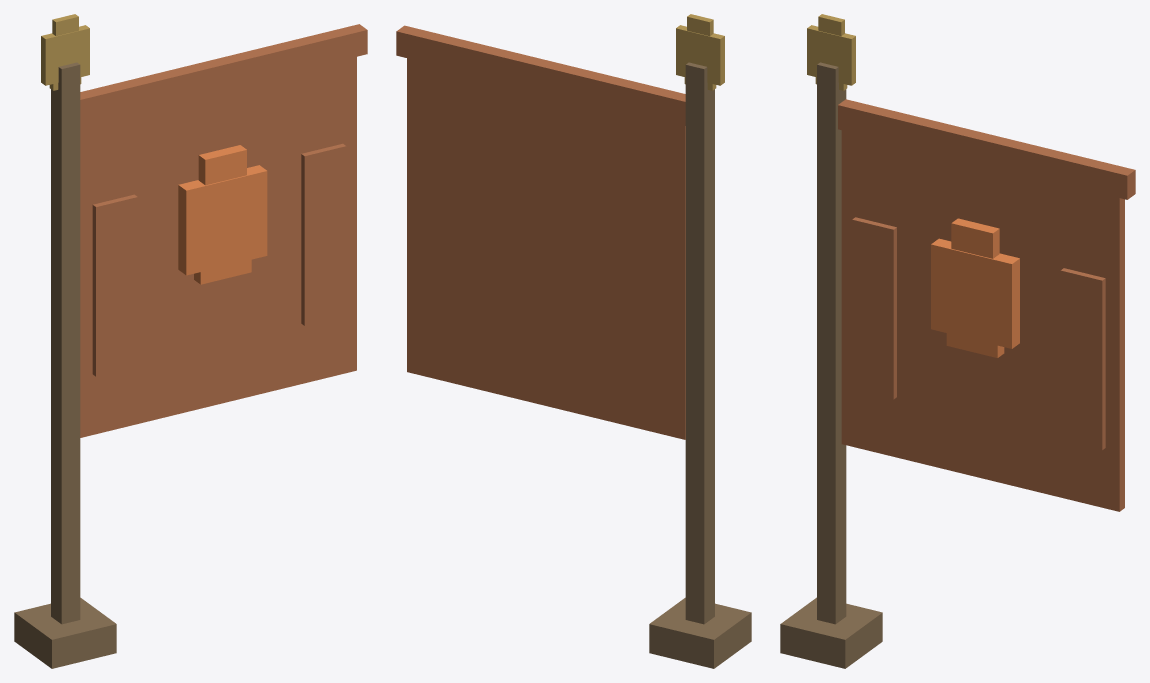
Rendered from cosmetic_banner_roast_ribbon.glb.
3 renders of one model, left to right at view 1: azimuth 30°, elevation 25°; view 2: azimuth 150°, elevation 25°; view 3: azimuth 330°, elevation 25°, orthographic.
Parts seen in each view (by area): view 1: CosmeticArt_cloth, CosmeticArt_pole, CosmeticArt_crest, CosmeticArt_finial; view 2: CosmeticArt_cloth, CosmeticArt_pole, CosmeticArt_finial; view 3: CosmeticArt_cloth, CosmeticArt_pole, CosmeticArt_crest, CosmeticArt_finial.
Part boxes in pixels (x1=…): CosmeticArt_cloth: x1=80, y1=24, x2=367, y2=437; CosmeticArt_pole: x1=14, y1=62, x2=116, y2=668; CosmeticArt_crest: x1=178, y1=145, x2=267, y2=284; CosmeticArt_finial: x1=41, y1=14, x2=89, y2=90; CosmeticArt_cloth: x1=396, y1=25, x2=685, y2=439; CosmeticArt_pole: x1=649, y1=62, x2=751, y2=668; CosmeticArt_finial: x1=676, y1=14, x2=724, y2=90; CosmeticArt_cloth: x1=838, y1=99, x2=1135, y2=511; CosmeticArt_pole: x1=780, y1=62, x2=882, y2=668; CosmeticArt_crest: x1=931, y1=218, x2=1019, y2=357; CosmeticArt_finial: x1=807, y1=14, x2=855, y2=90.
Size of the model in its own units: 1.43 by 2.6 by 0.28.
